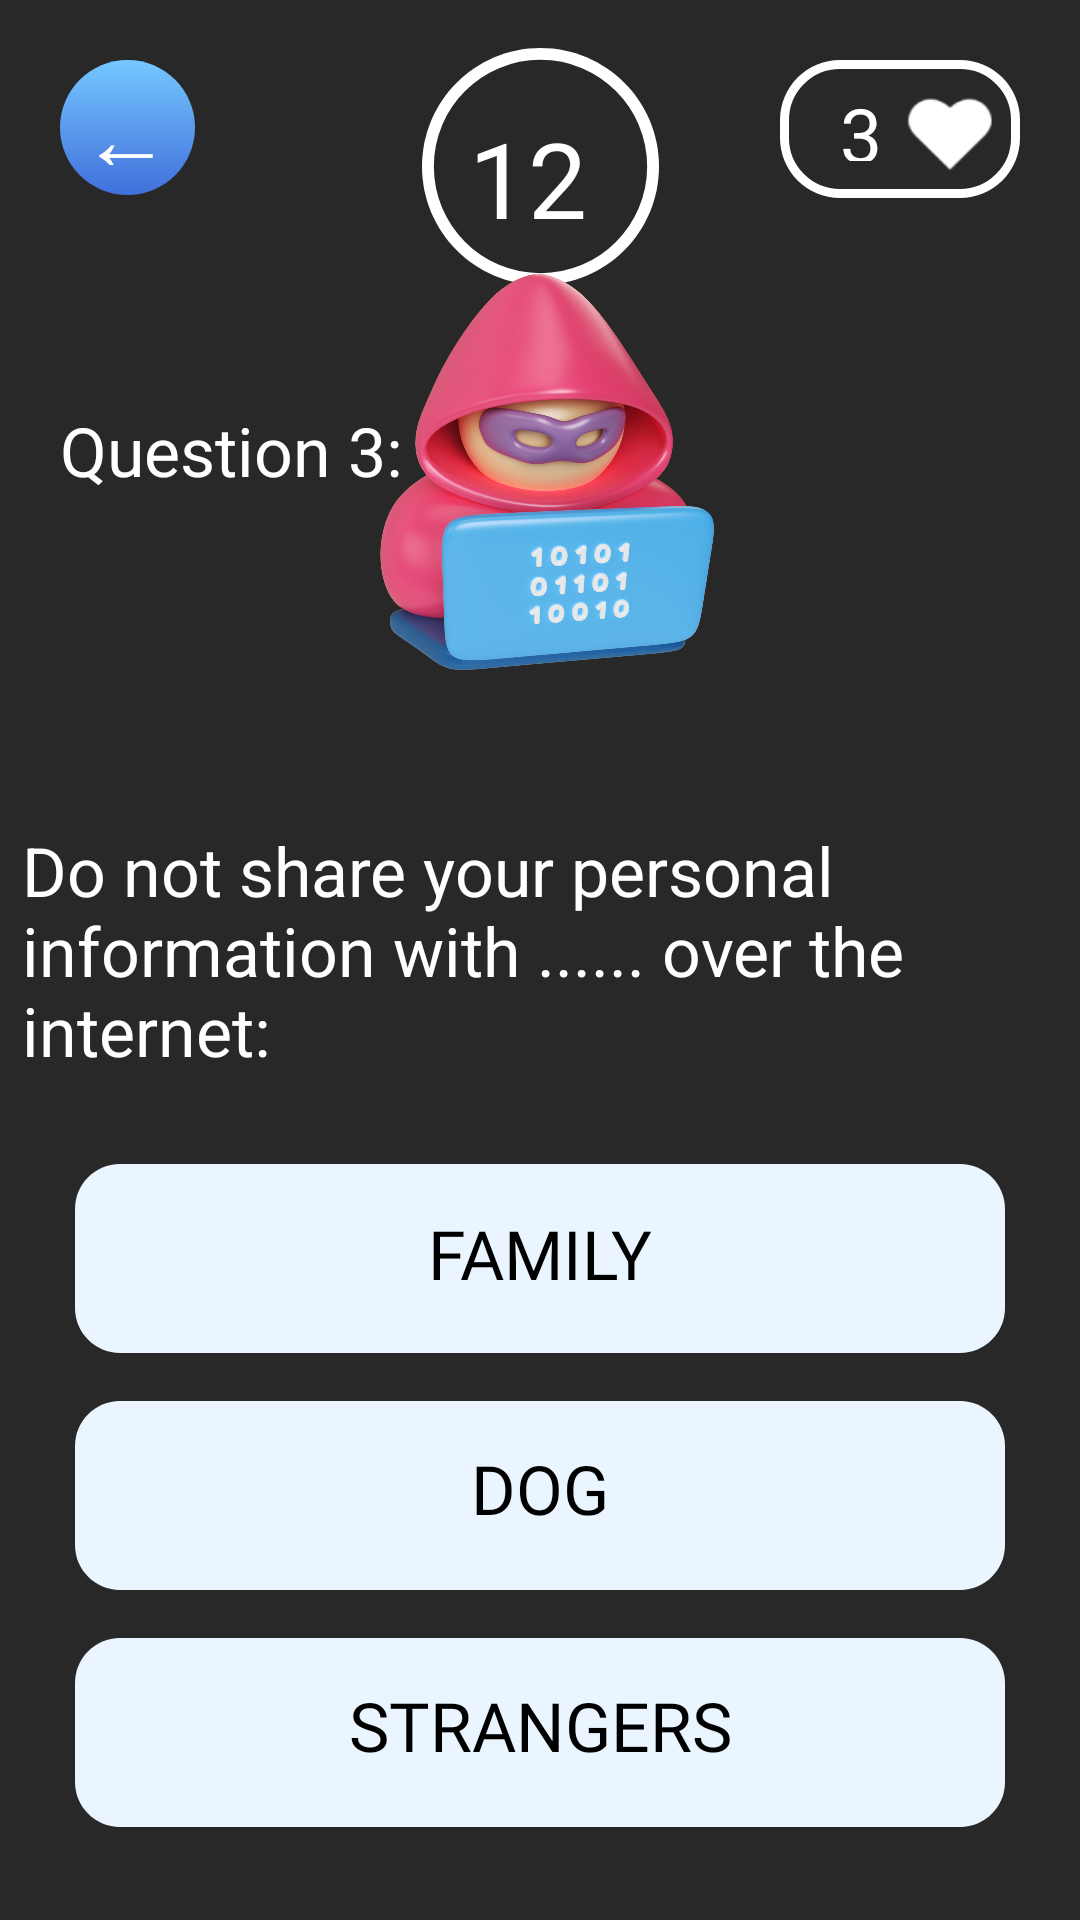

Screen size 1080x1920. Icon name, then its center in pixels as point (x, y):
back: point (127, 127)
hearticon: point (950, 134)
